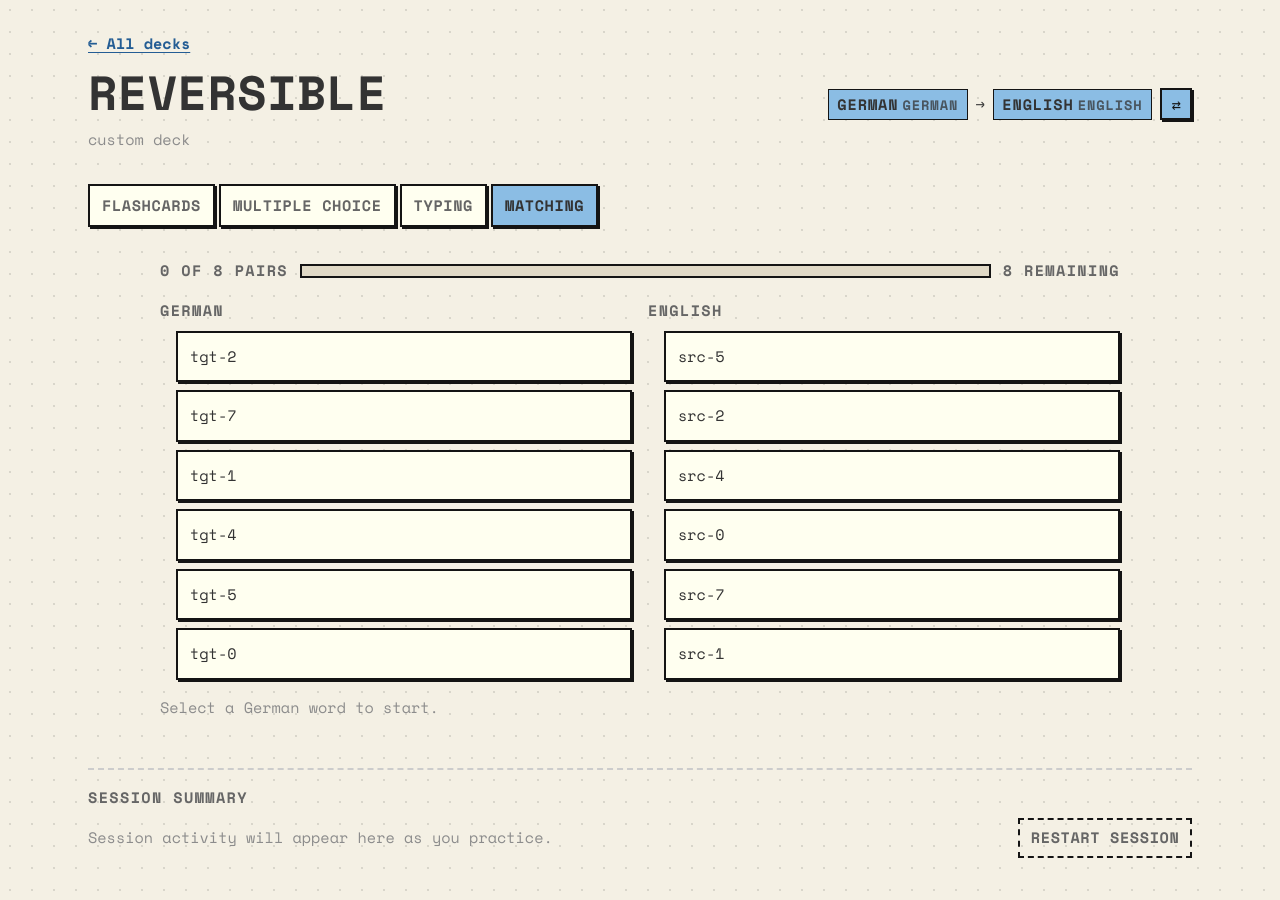
Test: PlayPage with reversed study direction › matching keeps the board order after completing a pair
The image size is (1280, 900).
Click the button "tgt-2" at (213, 356), box [176,331,632,382]
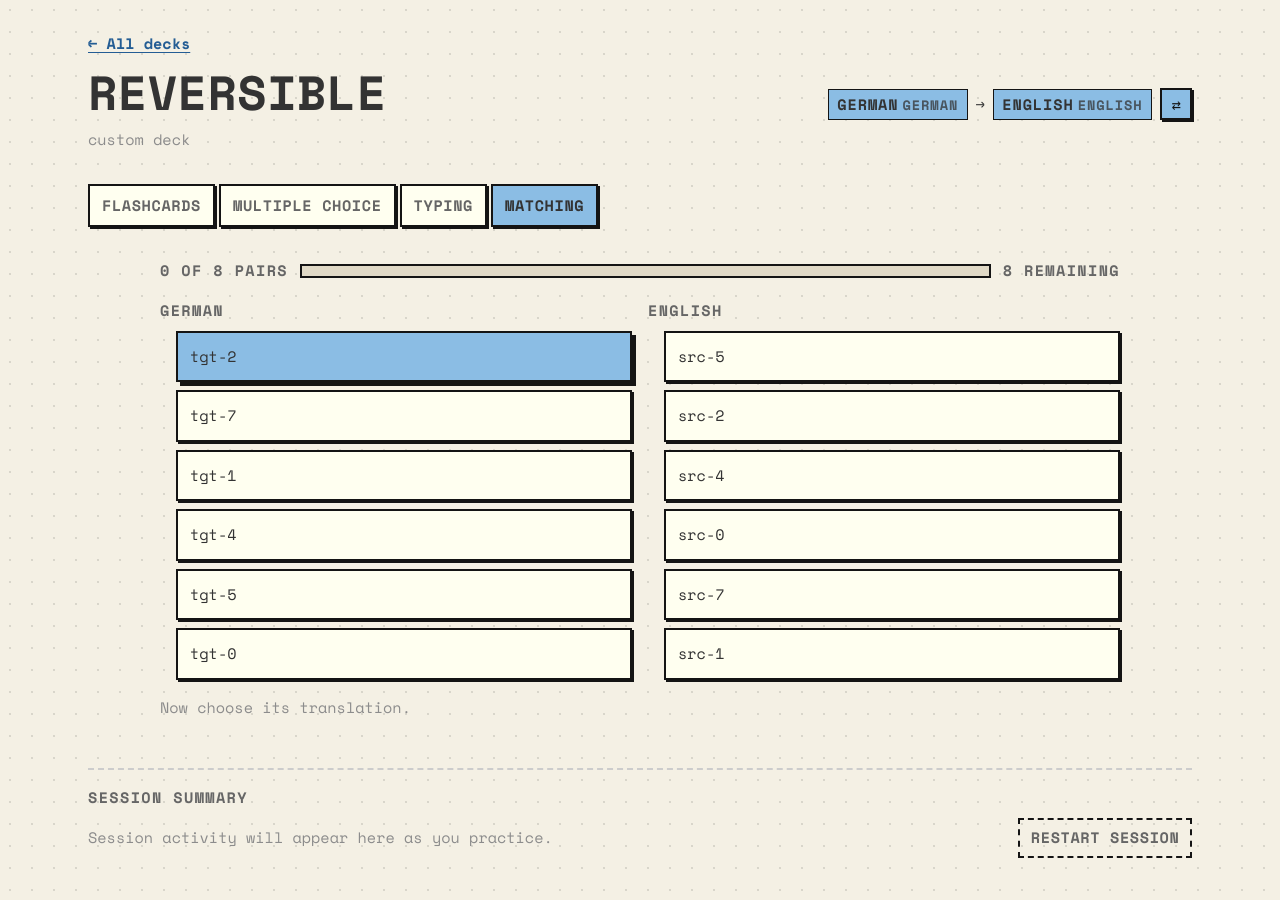
Click the button "src-2" at (701, 415), box [664,390,1120,442]
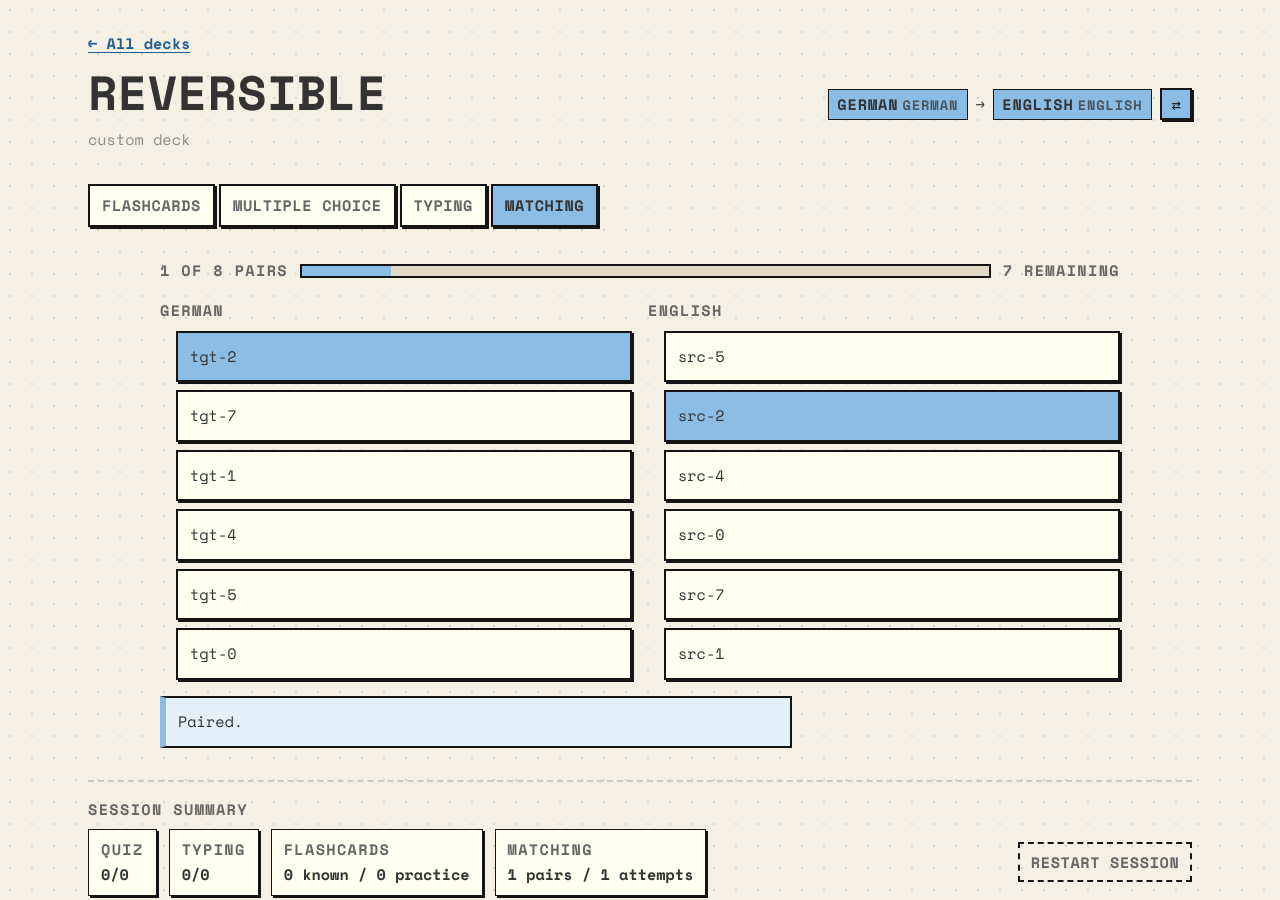
expect the text "Paired." is shown: met, box [160,696,792,748]
expect the text "1 of 8 pairs" is shown: met, box [160,260,288,283]
